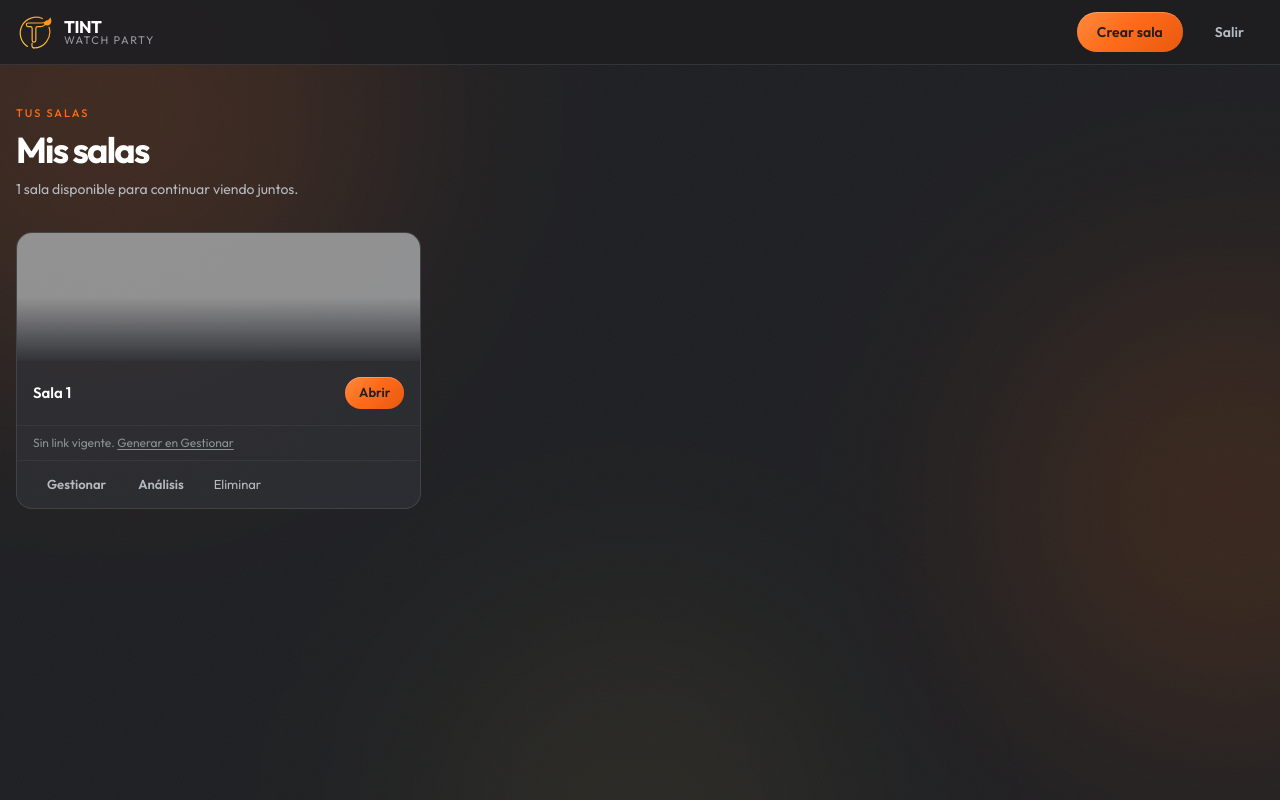
Test case: Dashboard › elimina la sala con confirmación y la quita de la lista
Expected: the text "Sala 1" is shown, left=33, top=382, right=71, bottom=404
Click the button with aria-label "eliminar sala 1" at (238, 485), box left=202, top=469, right=273, bottom=500
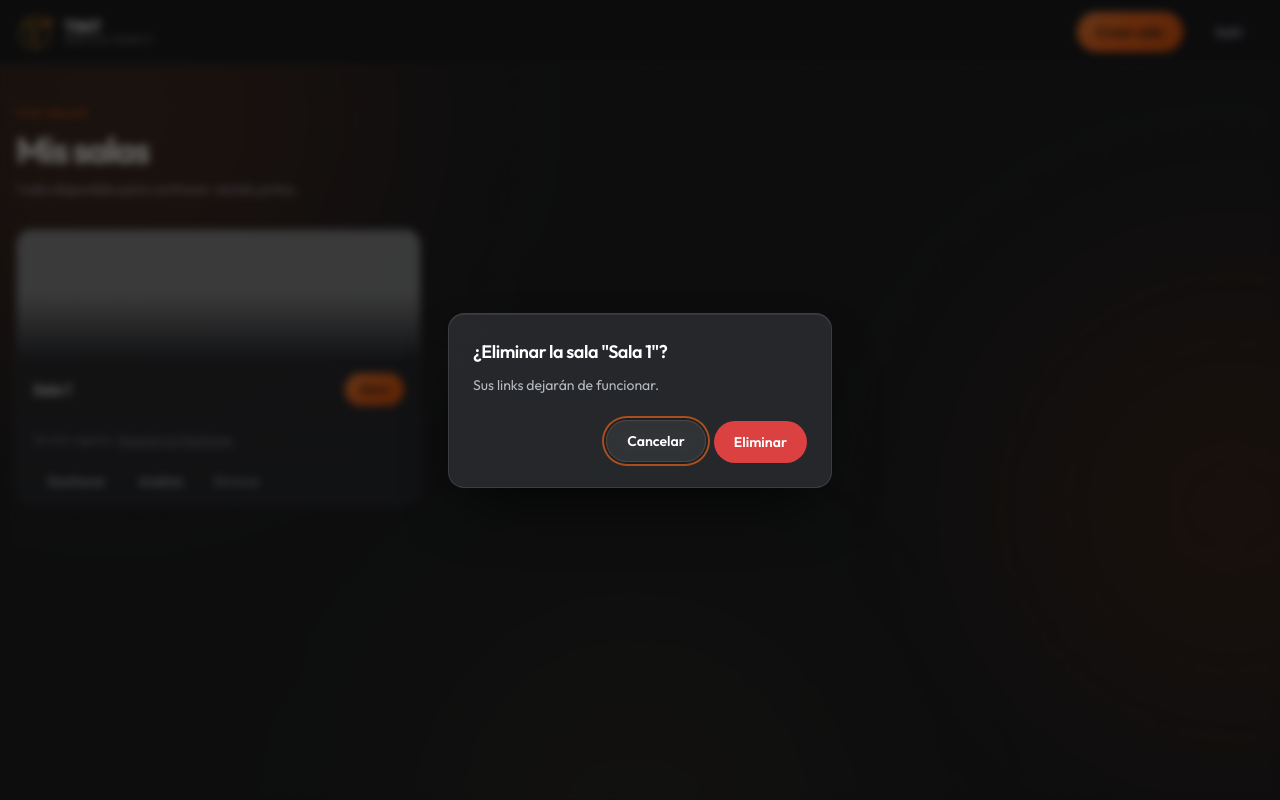
Expected: the dialog "¿Eliminar la sala \"Sala 1\"?" shows "Sus links dejarán de funcionar.", left=473, top=376, right=659, bottom=394
Click the button "Eliminar" at (760, 441), box left=714, top=420, right=807, bottom=462
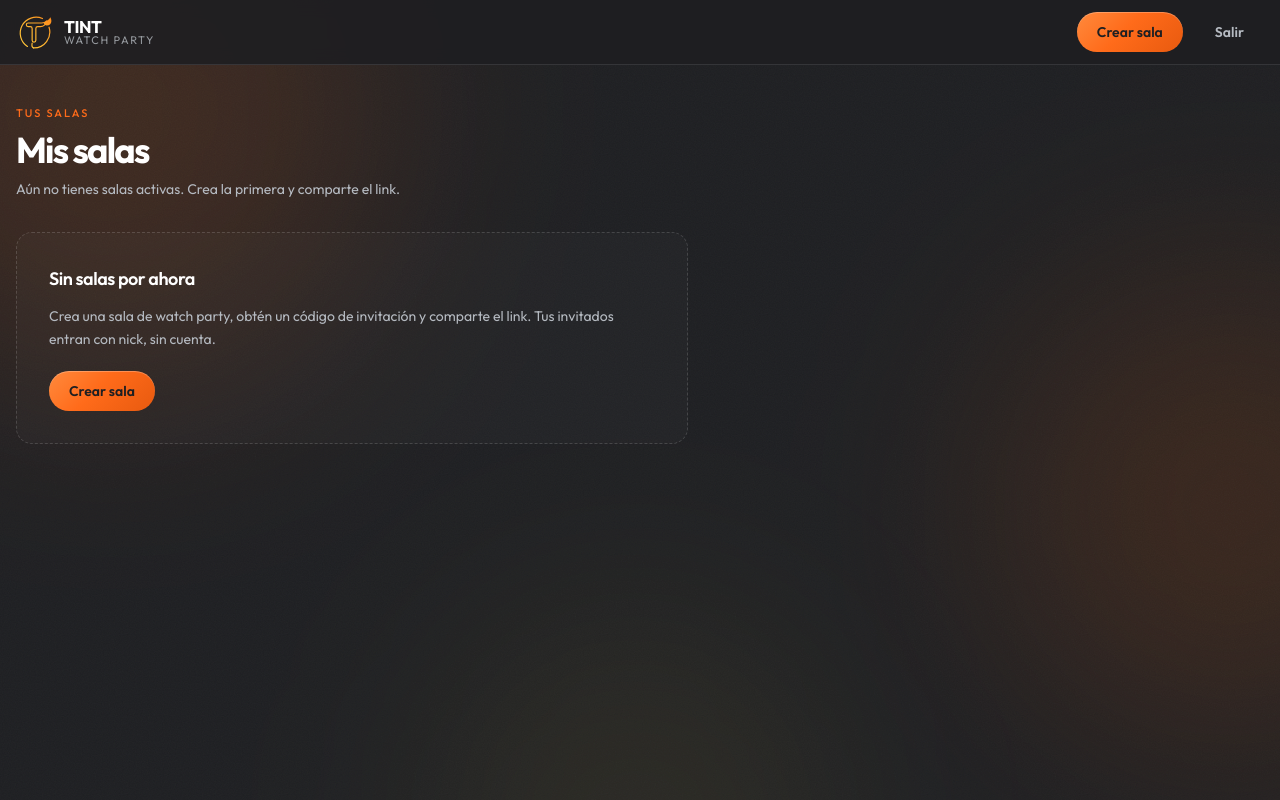
Expected: the heading "Sala 1" is gone
